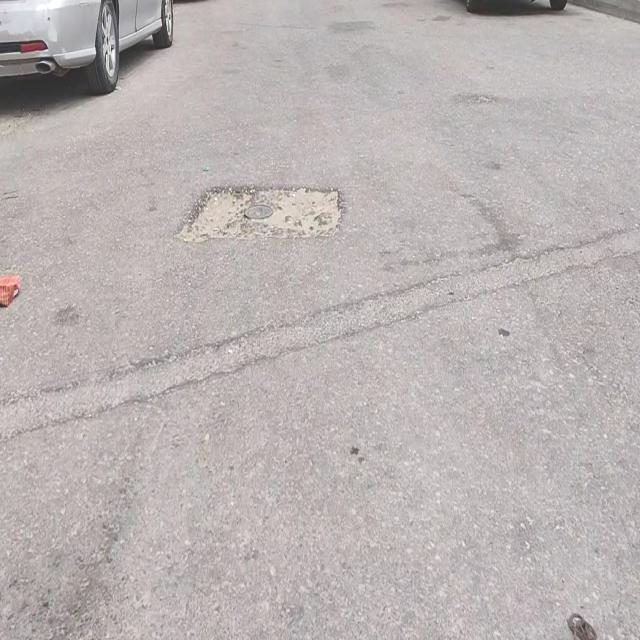Potholes: (185, 181, 343, 235)
